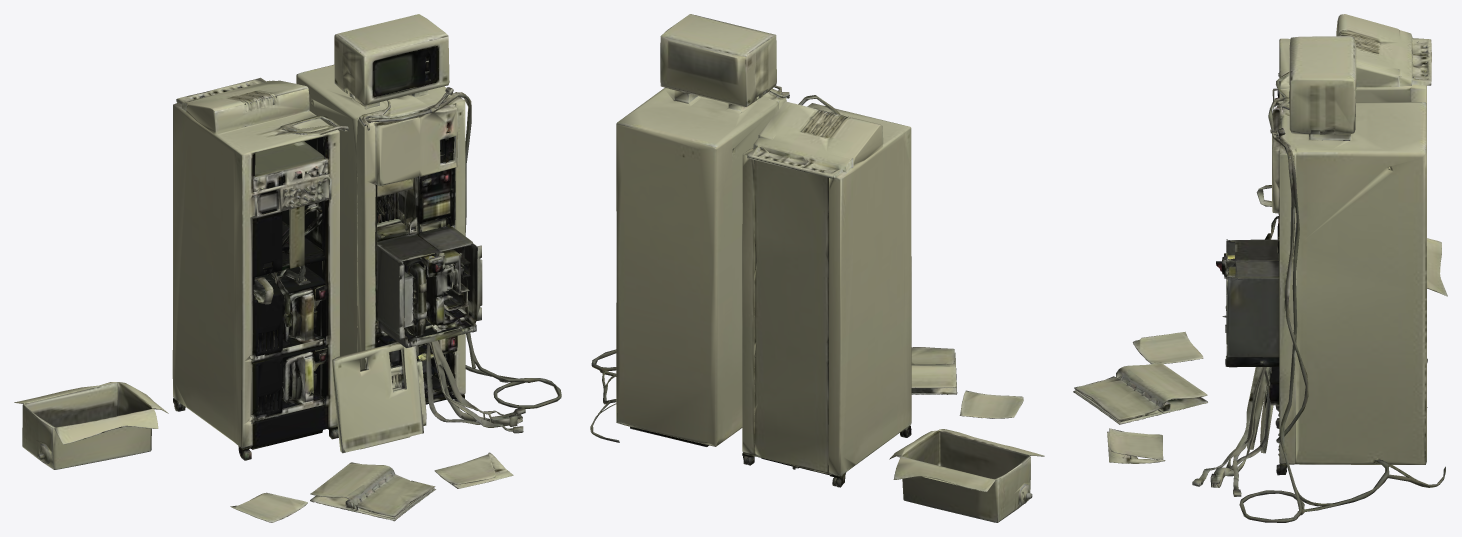
The model's file is mainframe.glb.
3 views of the same model, side by side, from view 1: azimuth 30°, elevation 25°; view 2: azimuth 150°, elevation 25°; view 3: azimuth 270°, elevation 25° (orthographic). The views are drawn at different scales.
Bounding box in the file's own units: 1.89 × 1.43 × 1.23.
Materials: 1 (1 with a texture image).
